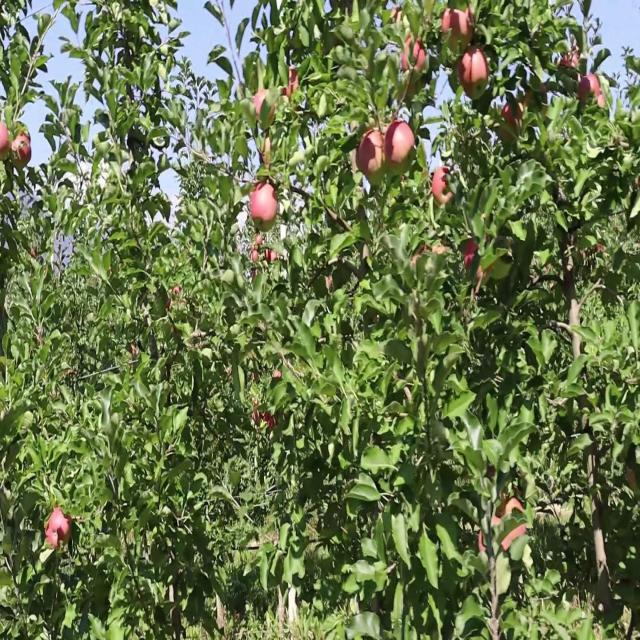apple: (492, 497, 528, 553), (384, 120, 416, 167), (460, 49, 489, 100), (252, 184, 280, 229), (448, 7, 476, 52), (360, 127, 385, 176), (464, 241, 491, 286), (504, 92, 532, 132), (460, 49, 484, 91), (404, 35, 427, 76), (252, 92, 278, 128), (256, 136, 280, 171), (432, 170, 455, 206), (524, 85, 549, 117), (280, 71, 301, 101), (12, 135, 32, 165), (580, 78, 601, 105), (52, 511, 71, 540), (440, 7, 458, 36), (560, 49, 581, 73), (44, 519, 60, 548), (56, 511, 72, 540), (0, 120, 11, 162), (44, 526, 60, 548), (264, 412, 278, 432), (628, 469, 640, 492), (392, 7, 404, 25), (596, 92, 608, 108), (252, 405, 261, 425), (480, 533, 488, 555), (488, 469, 497, 482)
